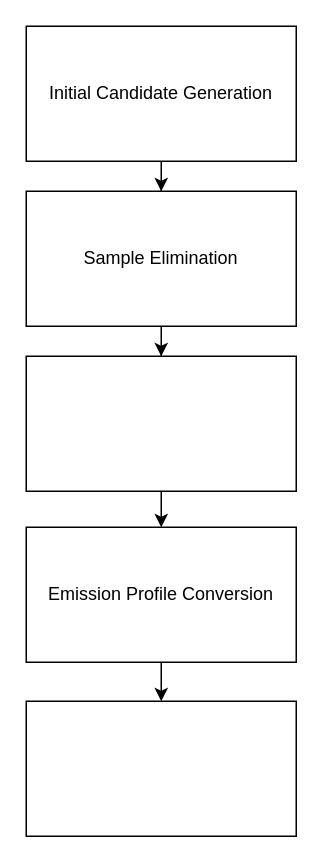
Some shapes in this 323 by 863 pixel diagram are drawn without their labels. Each missing label, with the centre of its shape:
"Radiance Estimation" goes at (160,423).
"Shading" goes at (160,768).
